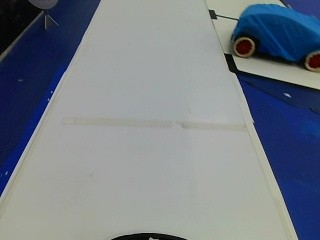car: (230, 4, 318, 71)
